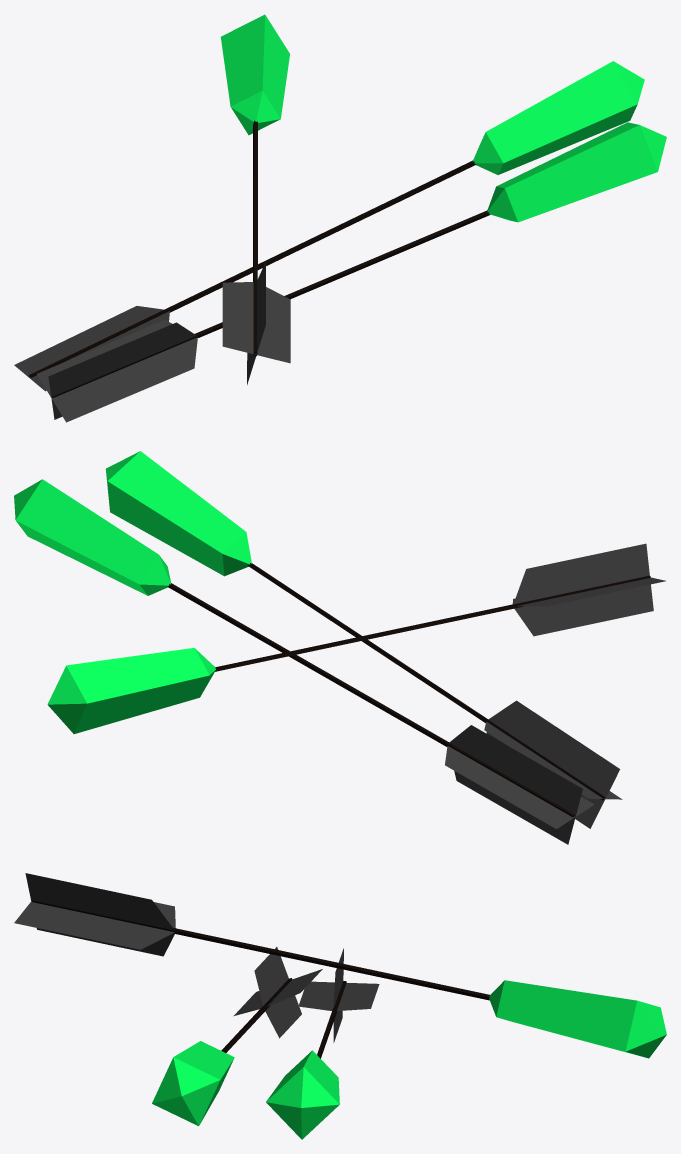
Rendered from green_arrows.obj.
3 views of the same model, one above another, from view 1: azimuth 30°, elevation 25°; view 2: azimuth 150°, elevation 25°; view 3: azimuth 270°, elevation 25° (orthographic). The views are drawn at different scales.
Parts seen in each view (by area): view 1: Cube.225_Cube.002, Cube.223_Cube.002, Cube.221_Cube.003, Plane.020_Plane.002, Plane.018_Plane.002, Plane.019_Plane.002, Plane.022_Plane.002, Cube.226_Cube.001, Cube.224_Cube.002, Cube.222_Cube.003, Plane.017_Plane.002; view 2: Cube.221_Cube.003, Cube.223_Cube.002, Cube.225_Cube.002, Plane.017_Plane.002, Plane.021_Plane.002, Plane.019_Plane.002, Plane.022_Plane.002, Cube.226_Cube.001, Cube.222_Cube.003, Cube.224_Cube.002, Plane.020_Plane.002, Plane.018_Plane.002; view 3: Cube.221_Cube.003, Plane.017_Plane.002, Cube.223_Cube.002, Cube.225_Cube.002, Plane.018_Plane.002, Cube.222_Cube.003, Plane.019_Plane.002, Plane.022_Plane.002, Plane.020_Plane.002, Cube.224_Cube.002, Plane.021_Plane.002, Cube.226_Cube.001.
Boxes of the visible parts, x1,y1,x2,y2 form: Cube.225_Cube.002: (472, 61, 644, 174); Cube.223_Cube.002: (487, 122, 666, 222); Cube.221_Cube.003: (220, 14, 289, 135); Plane.020_Plane.002: (37, 320, 197, 422); Plane.018_Plane.002: (222, 282, 290, 363); Plane.019_Plane.002: (48, 322, 196, 419); Plane.022_Plane.002: (14, 306, 169, 391); Cube.226_Cube.001: (29, 160, 476, 377); Cube.224_Cube.002: (52, 210, 490, 397); Cube.222_Cube.003: (253, 120, 257, 356); Plane.017_Plane.002: (247, 261, 265, 384); Cube.221_Cube.003: (47, 648, 215, 733); Cube.223_Cube.002: (105, 451, 251, 576); Cube.225_Cube.002: (14, 479, 170, 595); Plane.017_Plane.002: (513, 543, 653, 636); Plane.021_Plane.002: (449, 725, 582, 844); Plane.019_Plane.002: (486, 700, 619, 828); Plane.022_Plane.002: (445, 746, 594, 828); Cube.226_Cube.001: (167, 583, 574, 818); Cube.222_Cube.003: (215, 576, 650, 671); Cube.224_Cube.002: (247, 563, 604, 800); Plane.020_Plane.002: (484, 721, 622, 799); Plane.018_Plane.002: (512, 577, 665, 606); Cube.221_Cube.003: (489, 980, 666, 1058); Plane.017_Plane.002: (25, 873, 174, 956); Cube.223_Cube.002: (152, 1041, 234, 1126); Cube.225_Cube.002: (266, 1050, 339, 1139); Plane.018_Plane.002: (14, 901, 175, 949); Cube.222_Cube.003: (31, 900, 489, 1000); Plane.019_Plane.002: (254, 947, 301, 1038); Plane.022_Plane.002: (298, 981, 379, 1010); Plane.020_Plane.002: (233, 969, 322, 1016); Cube.224_Cube.002: (221, 978, 292, 1052); Plane.021_Plane.002: (333, 948, 343, 1042); Cube.226_Cube.001: (317, 981, 346, 1058).
Size of the model in its own units: 0.776 by 0.2737 by 0.7007.
